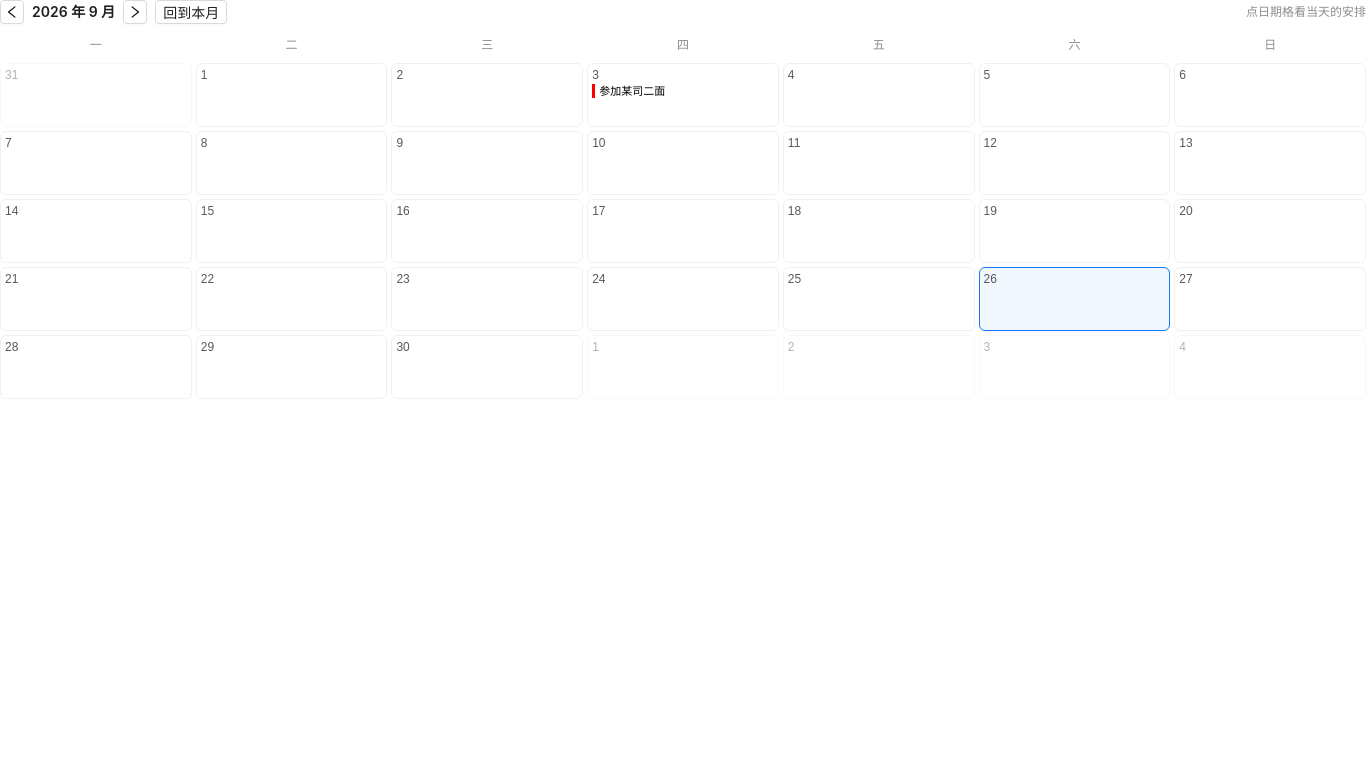
Test case: CalendarView 点日期看当天安排 › 点没有安排的日期格，明确说明这一天没有安排
取一个月里没有提醒的格子：当月第 1 天（提醒固定落在第 3 天）。
Click the 1st button "1". click: x=292, y=95
box: [196,63,387,127]
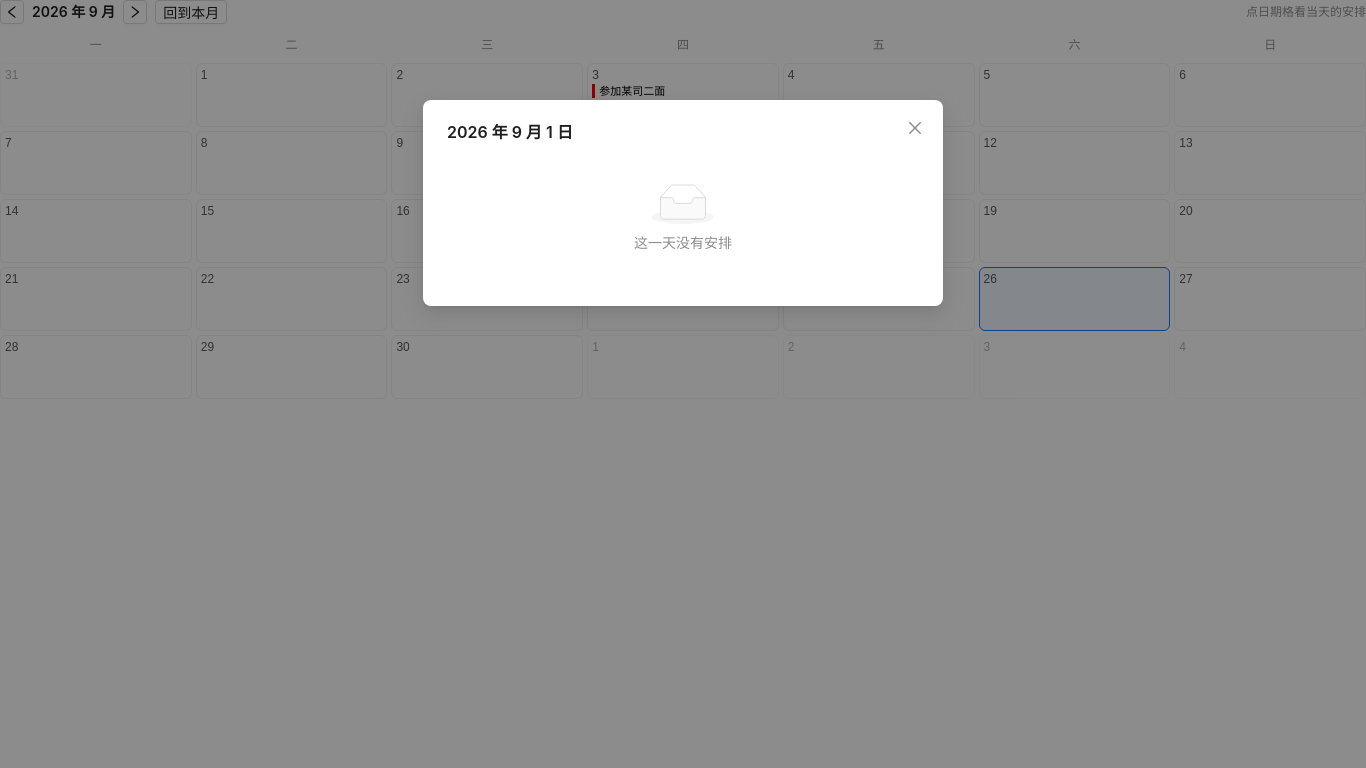
Expected: the dialog shows "这一天没有安排", [634,234,732,251]
